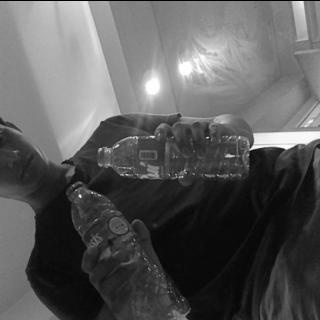plastic_bottles: (59, 180, 184, 320), (95, 134, 254, 176)
